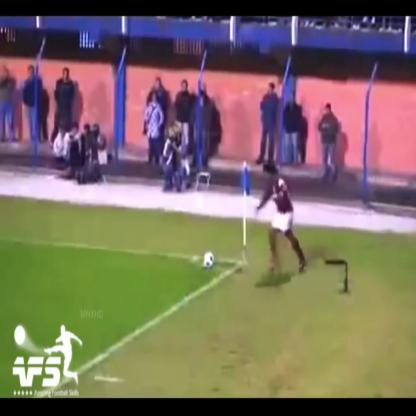corner kick: (186, 145, 304, 315)
